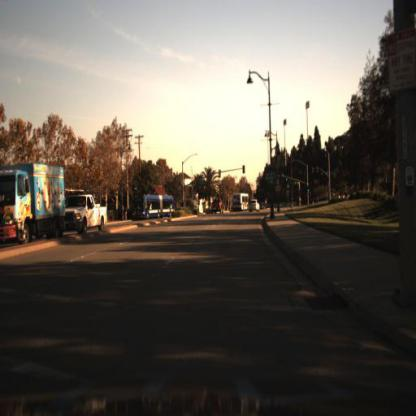car: (65, 194, 108, 235), (231, 190, 252, 210), (211, 198, 227, 219), (248, 198, 263, 213), (249, 196, 261, 214)
truck: (2, 166, 67, 247), (131, 193, 177, 224)
